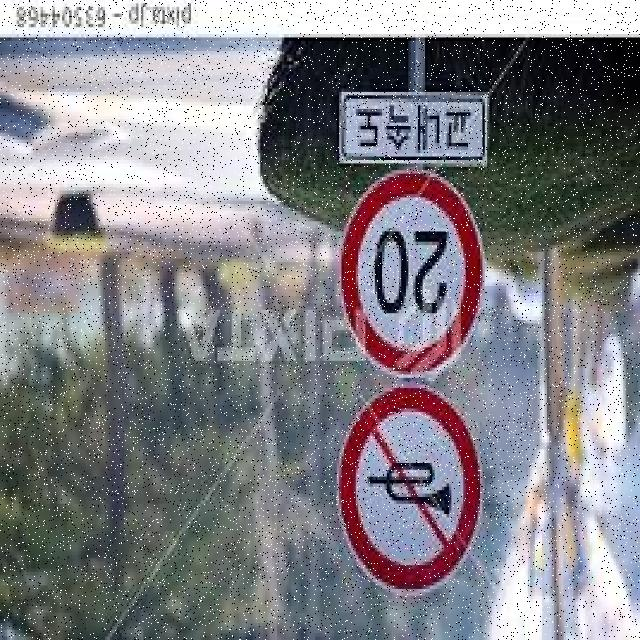speed_limit_20: (340, 170, 490, 381)
